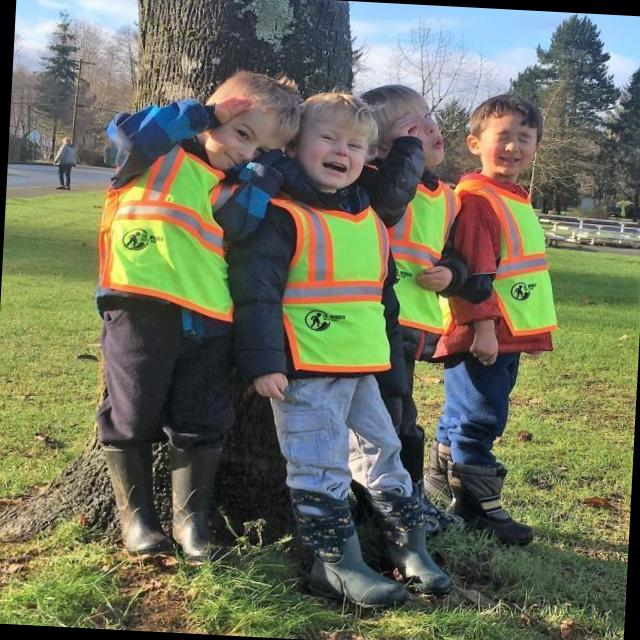safety_vest: (276, 174, 394, 384), (105, 151, 230, 311), (465, 170, 566, 352), (393, 162, 461, 341)
